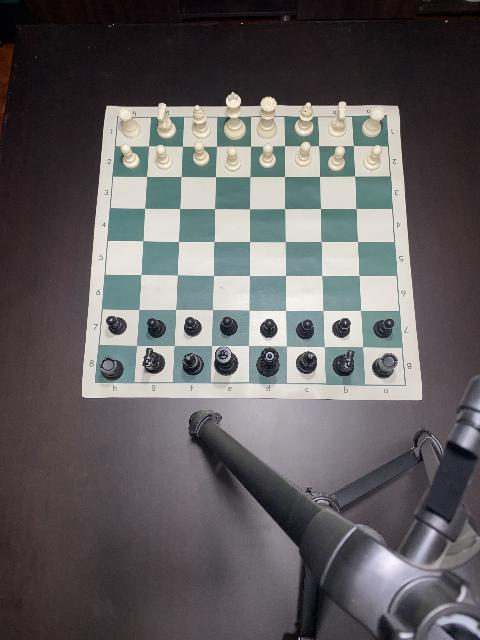black-bishop: (182, 352, 204, 376), (296, 351, 318, 375)
black-king: (214, 346, 240, 376)
black-knight: (332, 349, 356, 376), (142, 348, 166, 374)
black-pawn: (106, 314, 128, 336), (332, 317, 352, 339), (260, 316, 278, 339), (184, 316, 204, 336), (374, 319, 394, 339), (148, 317, 166, 338), (296, 318, 314, 339), (220, 316, 238, 336)
black-queen: (256, 347, 280, 377)
black-rook: (372, 353, 398, 379), (100, 357, 125, 381)
board: (82, 105, 424, 399)
white-bishop: (294, 102, 314, 136), (192, 105, 210, 139)
white-king: (223, 90, 246, 140)
white-knight: (156, 102, 176, 140), (329, 102, 348, 138)
white-pawn: (119, 144, 140, 170), (224, 144, 242, 172), (154, 144, 172, 170), (192, 140, 210, 166), (260, 143, 278, 169), (328, 145, 346, 171), (363, 145, 381, 171), (296, 141, 312, 167)
white-queen: (256, 97, 278, 139)
white-rook: (362, 106, 384, 138), (119, 107, 140, 139)
